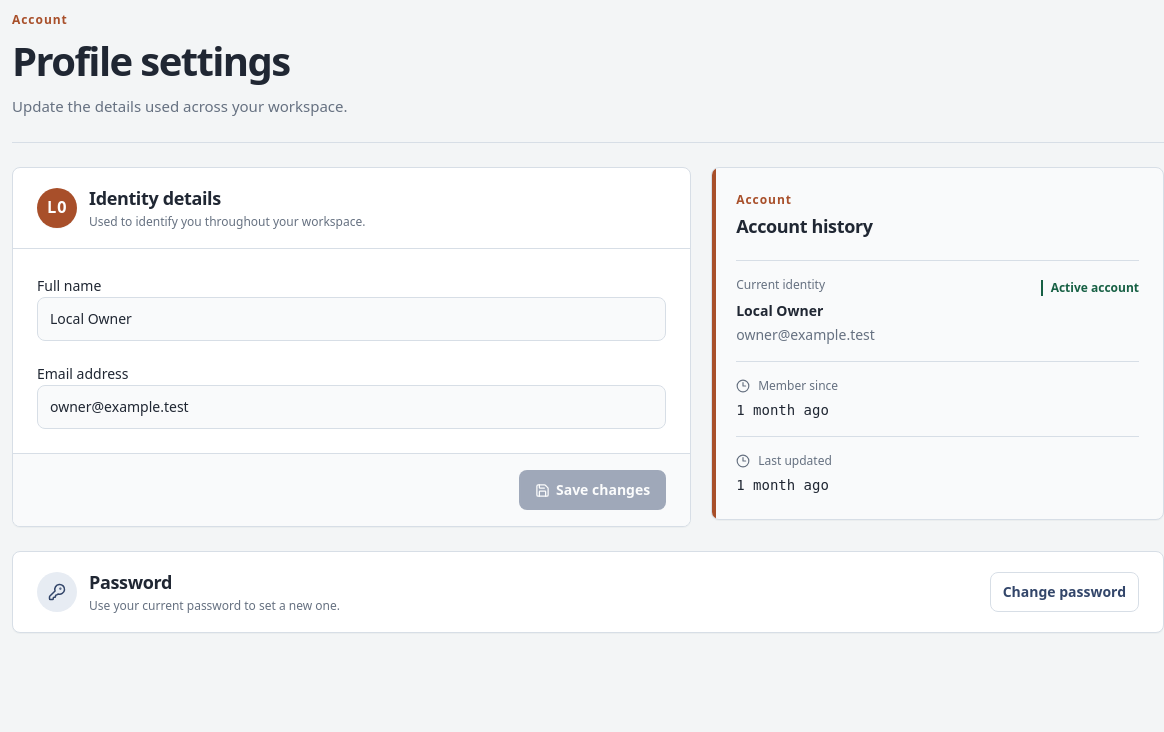
Test: profile settings workflow › updates the profile and current session user
The image size is (1164, 732).
Replace the text in the field labelled "Full name" with "  Updated Owner  ": (352, 319) [37,297,666,341]
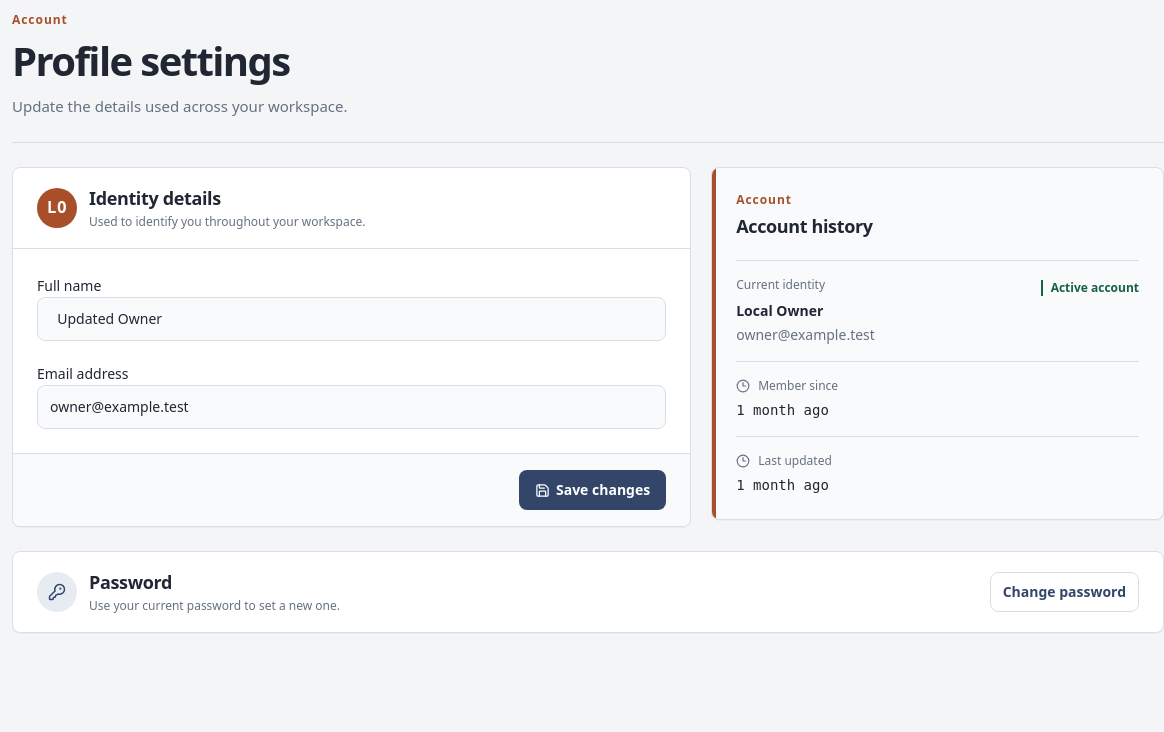
Replace the text in the field labelled "Email address" with "  updated@example.test  ": (352, 407) [37,385,666,429]
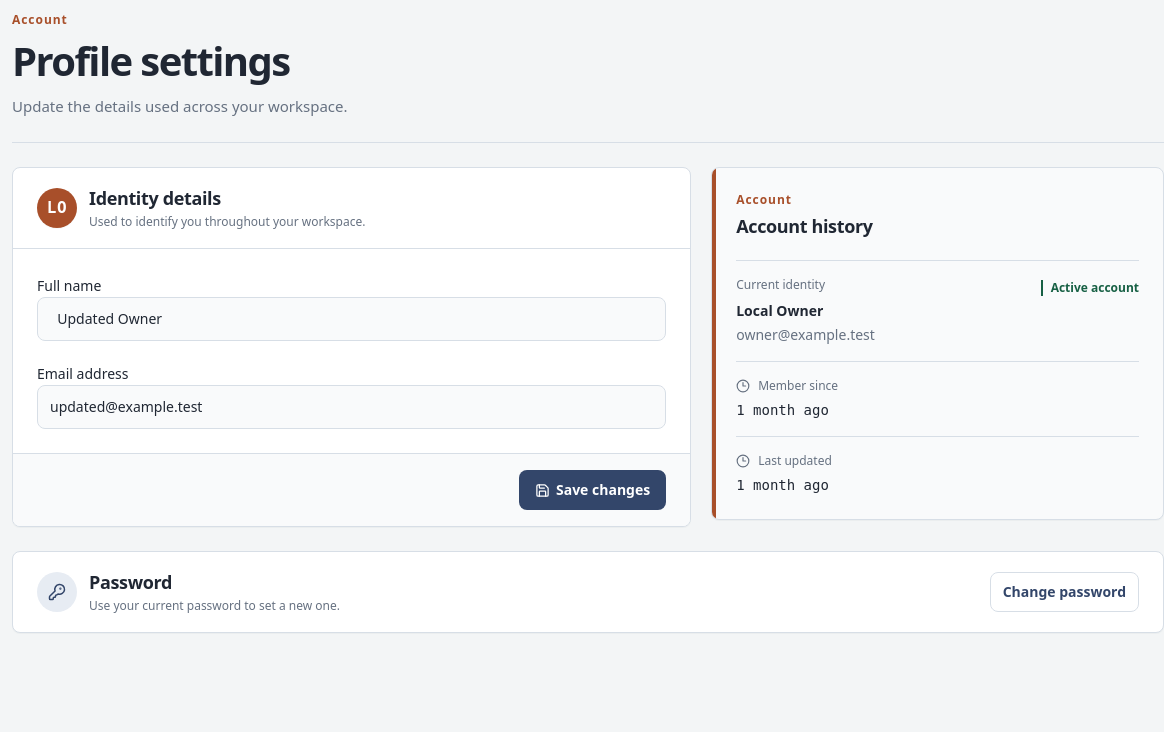
Submit the form named "Profile settings form", box [13,168,690,526]
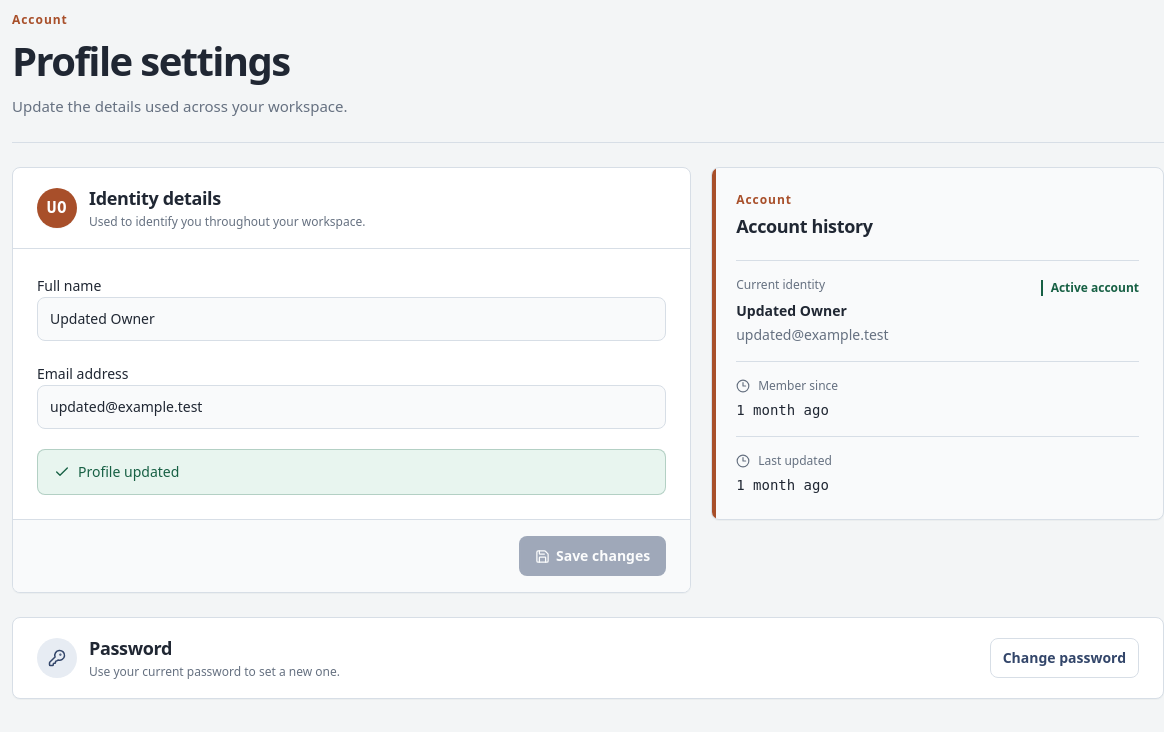
Check: the message "Profile updated" is shown, box [37,449,666,495]
Check: the text "UO" is shown, box [37,188,77,228]
